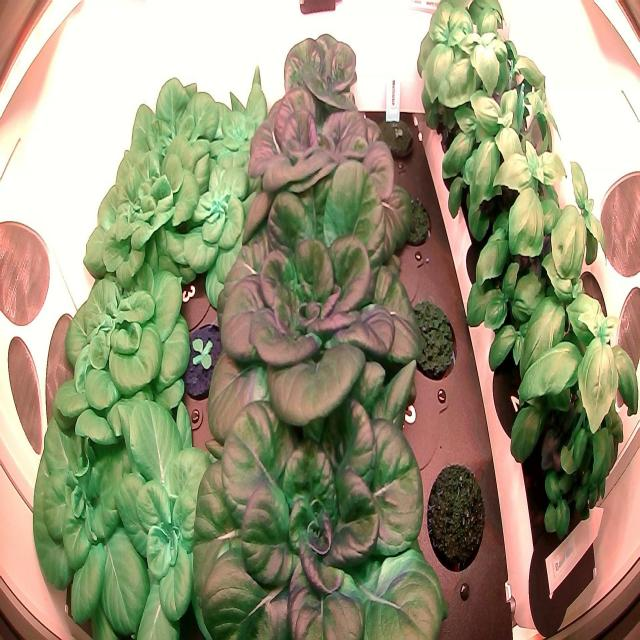Ready: (178, 335, 456, 640), (206, 138, 430, 438), (239, 76, 412, 248), (274, 13, 369, 129)
germination: (373, 103, 421, 171)
pod: (424, 453, 488, 573), (405, 293, 459, 386), (388, 187, 432, 250)
young: (32, 405, 180, 640), (102, 398, 240, 640), (44, 252, 194, 429), (77, 132, 206, 290), (164, 161, 263, 310), (110, 67, 223, 196), (195, 56, 285, 203), (174, 308, 233, 406)
